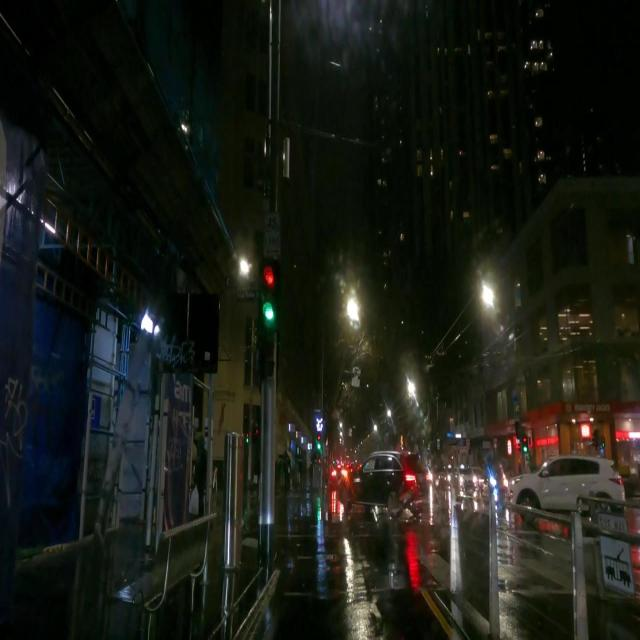Car: (506, 459, 624, 520), (339, 451, 428, 512)
